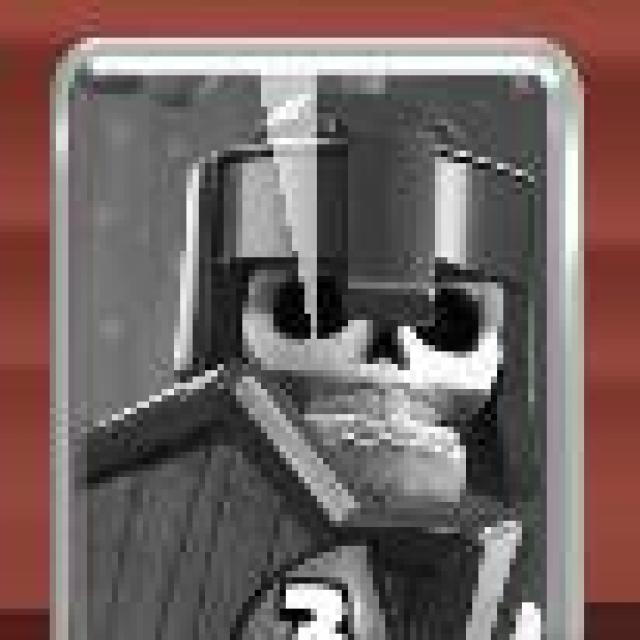Guards: (52, 39, 591, 640)
